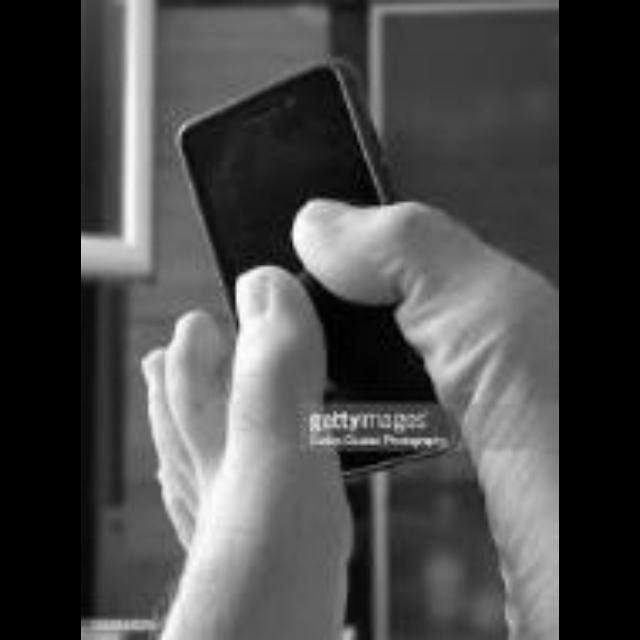fake: (162, 54, 490, 500)
